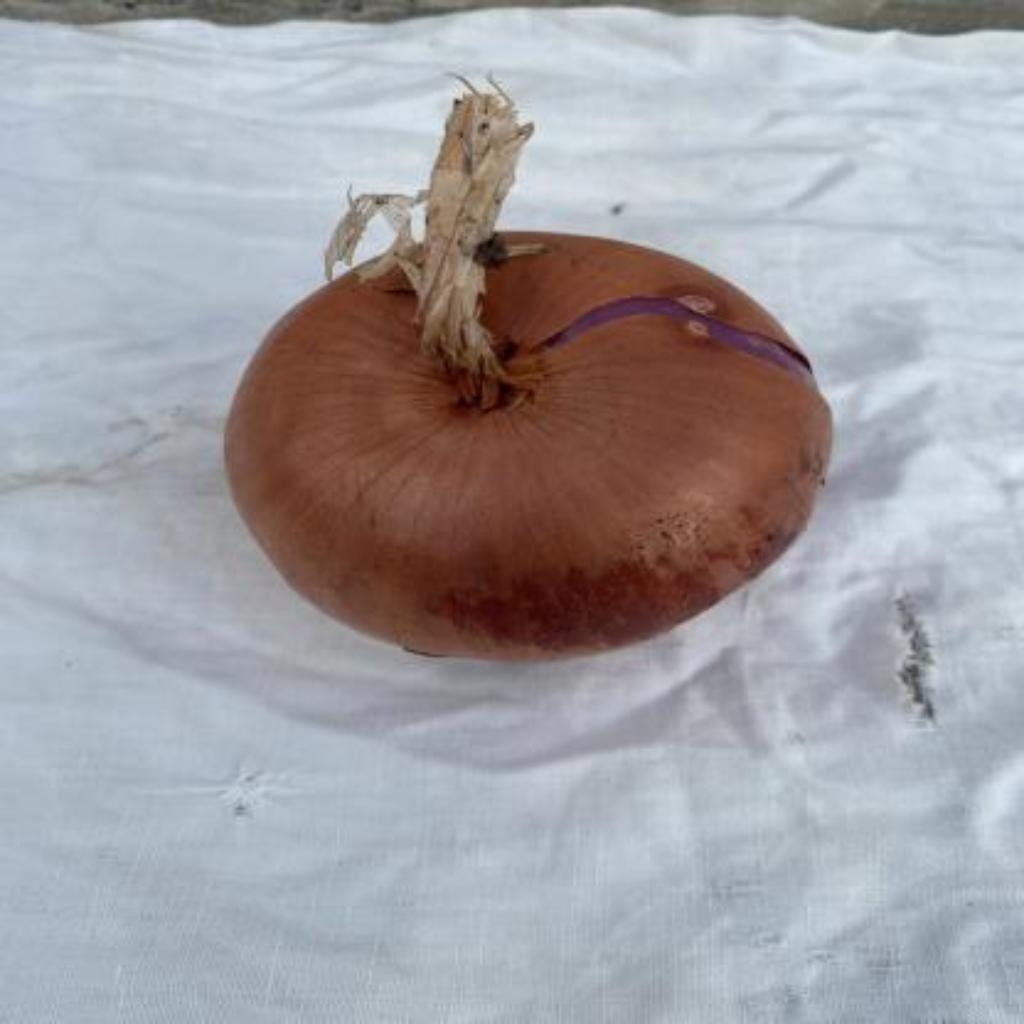Onion: (226, 84, 834, 658)
